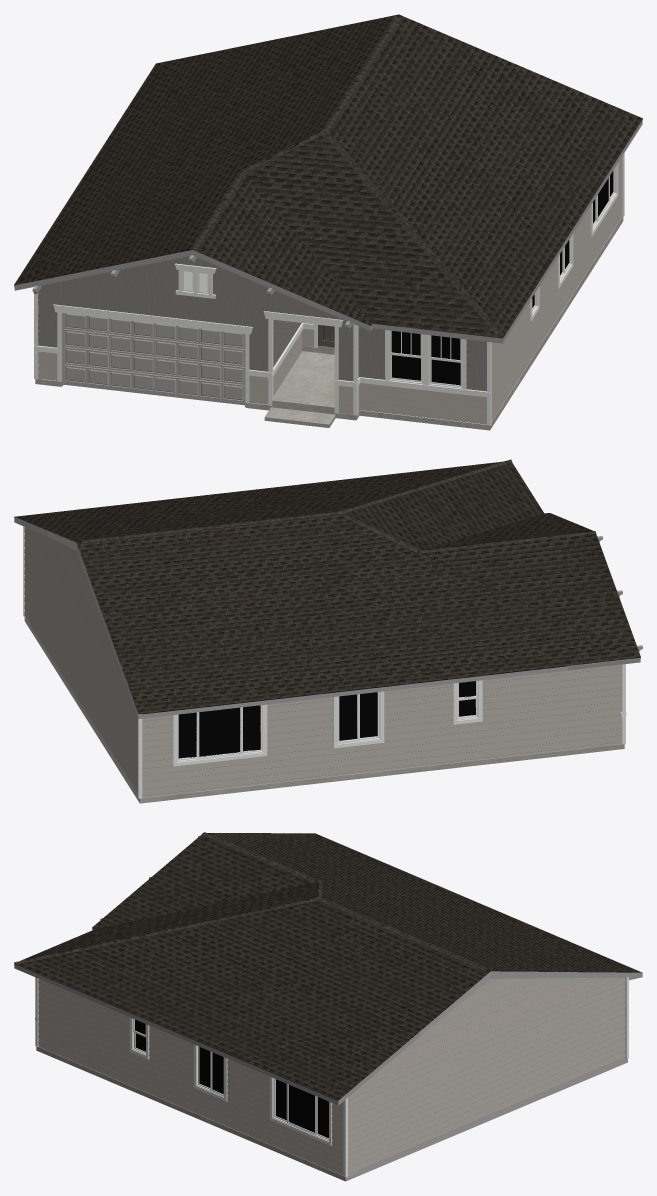
Rendered from KBhomes_1989_elevation_craftsman.glb.
3 renders of one model, top to bottom at view 1: azimuth 30°, elevation 25°; view 2: azimuth 150°, elevation 25°; view 3: azimuth 270°, elevation 25°, orthographic. The views are drawn at different scales.
Visible parts, largest first — view 1: Rectangle8.Rectangl13; view 2: Rectangle8.Rectangl13; view 3: Rectangle8.Rectangl13.
Part boxes in pixels (bbox=[...]): Rectangle8.Rectangl13: bbox=[14, 14, 642, 430]; Rectangle8.Rectangl13: bbox=[14, 459, 642, 803]; Rectangle8.Rectangl13: bbox=[14, 832, 642, 1181].
Bounding box in the file's own units: 19.25 × 5.15 × 19.14.
11 materials, 3 textured.
